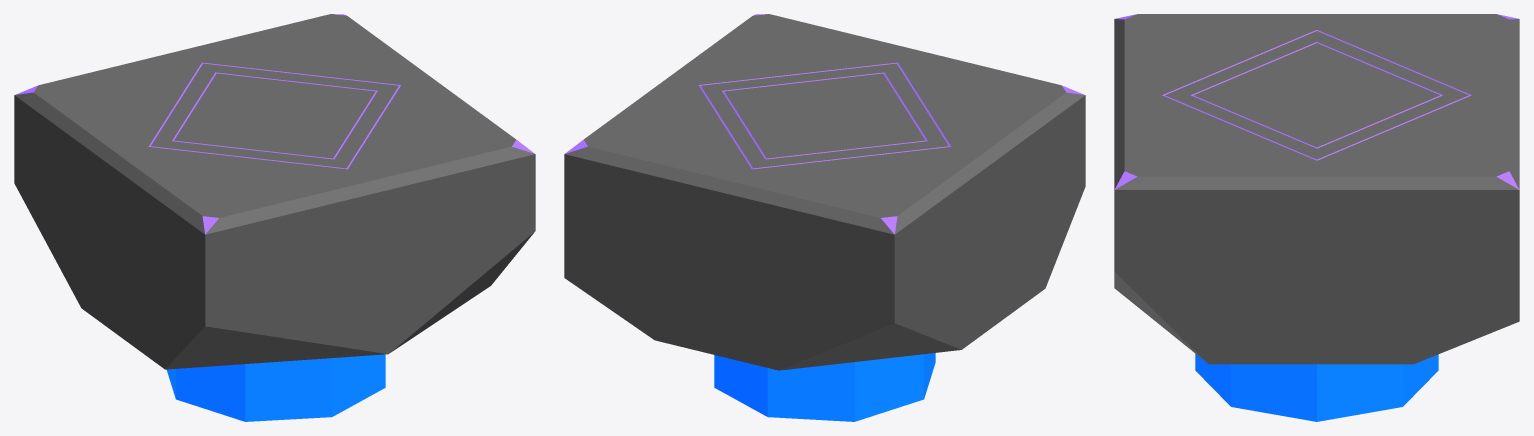
Rendered from Platform.glb.
3 renders of one model, left to right at view 1: azimuth 30°, elevation 25°; view 2: azimuth 150°, elevation 25°; view 3: azimuth 270°, elevation 25°, orthographic. The views are drawn at different scales.
Parts seen in each view (by area): view 1: Platform, MagicCircle; view 2: Platform, MagicCircle; view 3: Platform, MagicCircle.
Boxes of the visible parts, x1=… form: Platform: x1=14, y1=14, x2=535, y2=369; MagicCircle: x1=167, y1=354, x2=385, y2=421; Platform: x1=564, y1=14, x2=1085, y2=370; MagicCircle: x1=714, y1=353, x2=935, y2=421; Platform: x1=1114, y1=14, x2=1519, y2=364; MagicCircle: x1=1195, y1=354, x2=1438, y2=421.
Size of the model in its own units: 2 by 1.5 by 2.
